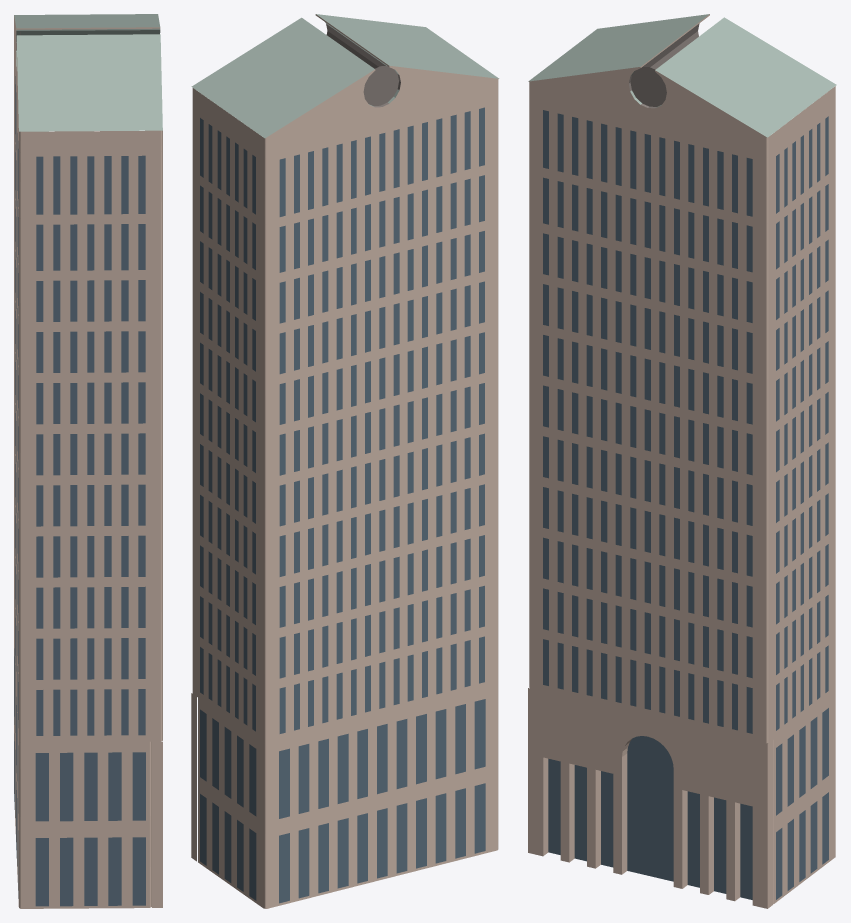
3 renders of one model, left to right at view 1: azimuth 30°, elevation 25°; view 2: azimuth 150°, elevation 25°; view 3: azimuth 270°, elevation 25°, orthographic.
Parts seen in each view (by area): view 1: 550-madison-avenue; view 2: 550-madison-avenue; view 3: 550-madison-avenue.
Part boxes in pixels (x1,y1,x2,y2): 550-madison-avenue: (14,14,162,908); 550-madison-avenue: (191,14,499,908); 550-madison-avenue: (528,14,836,908).
Size of the model in its own units: 56.65 by 197 by 67.88.
